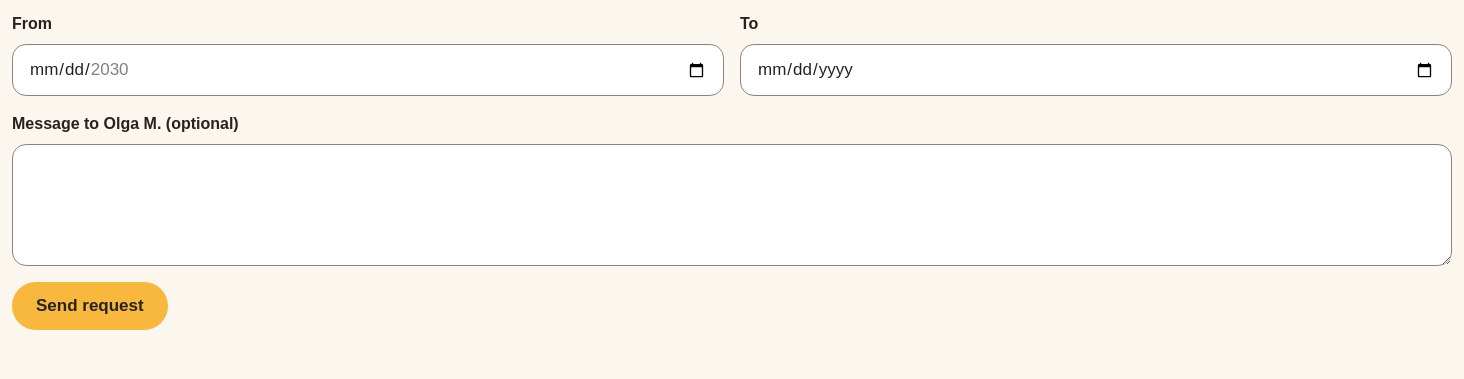
Scenario: RequestLoanForm › a field error focuses the first invalid field; the echoed values stay
Click the button "Send request" at (90, 306), box [12,282,168,330]
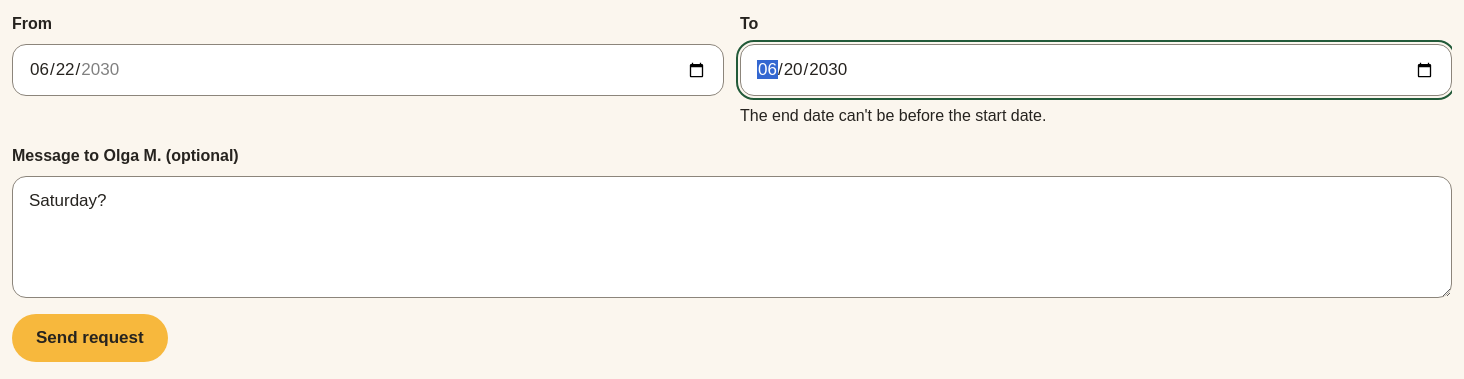
expect the text "The end date can't be before the start date." is shown: met, box [740,107,1046,124]
expect the date field labelled "From" holds "2030-06-22": met, box [12,44,724,96]
expect the date field labelled "To" holds "2030-06-20": met, box [740,44,1452,96]
